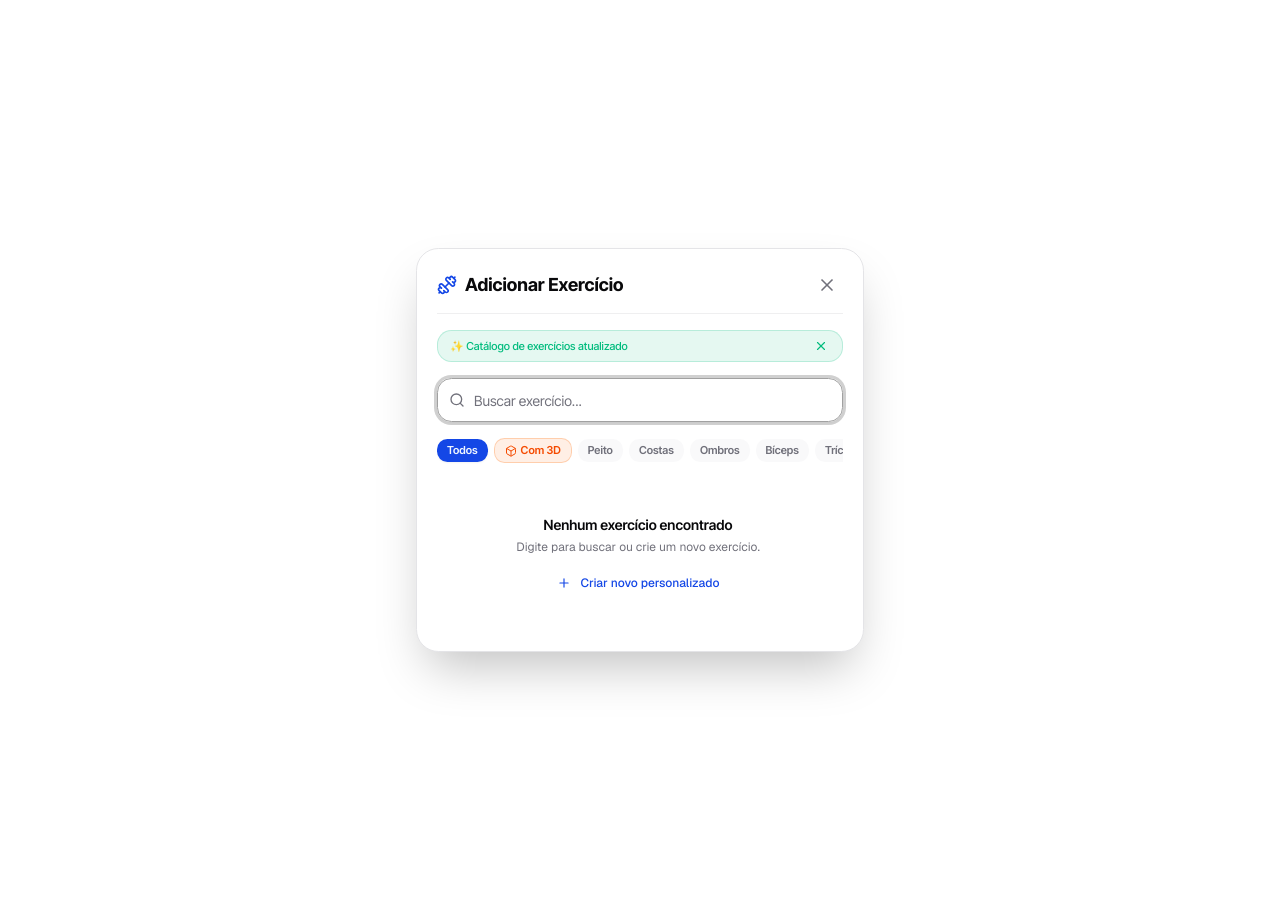
Test: Task 3.1C - Grupos Musculares no Frontend › 3. ExerciseSelectorModal UI (Items 15 & 19) › abre formulário de criação com seleção de músculo principal e auxiliares
Click the button "Criar novo personalizado".
click(638, 583)  # box [546,567,729,599]
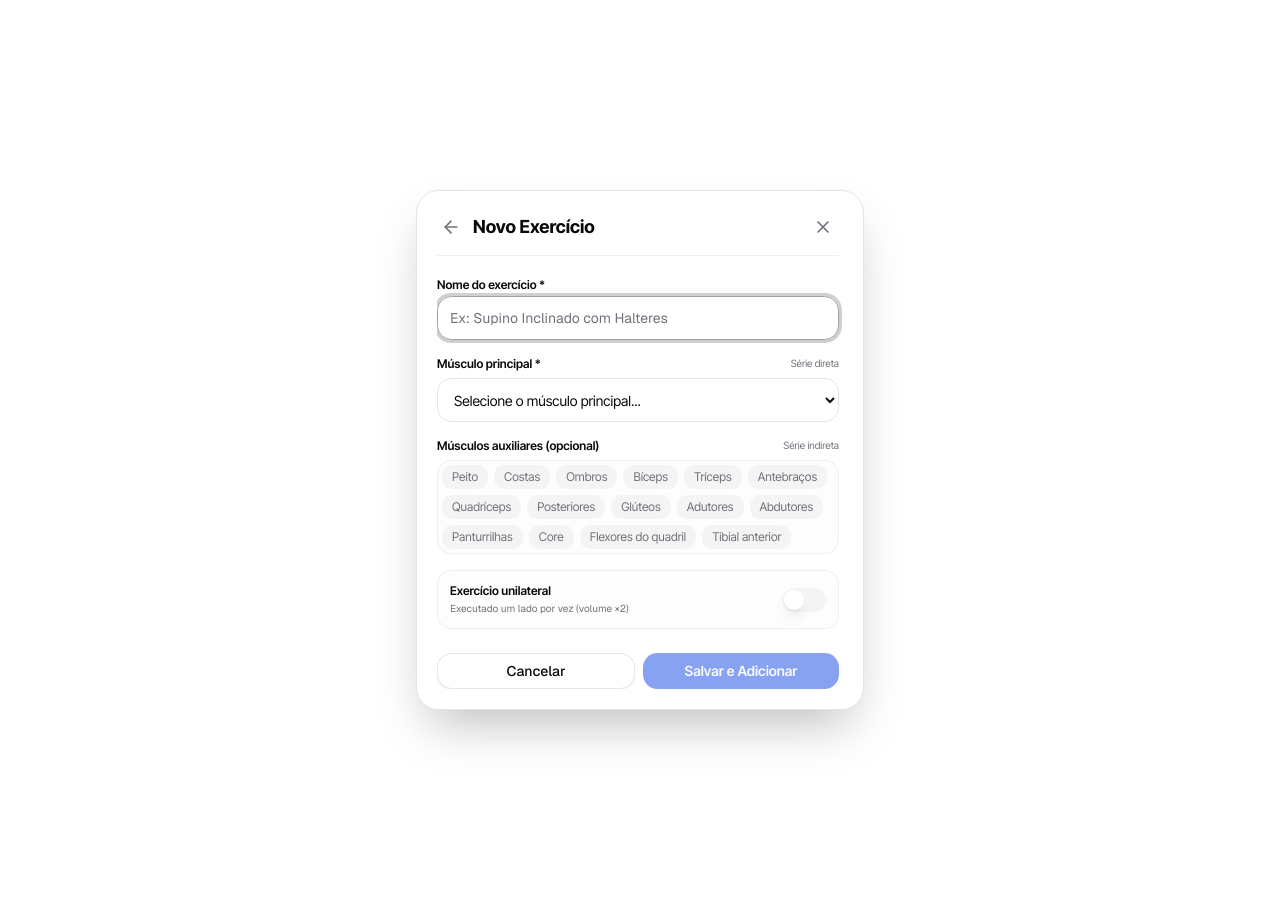
Expected: the field labelled "Nome do exercício *" is shown, [437,296,839,340]
Expected: the dropdown labelled "Músculo principal * Série direta" is shown, [437,378,839,422]
Expected: the text "Músculos auxiliares (opcional)" is shown, [437,438,599,454]
